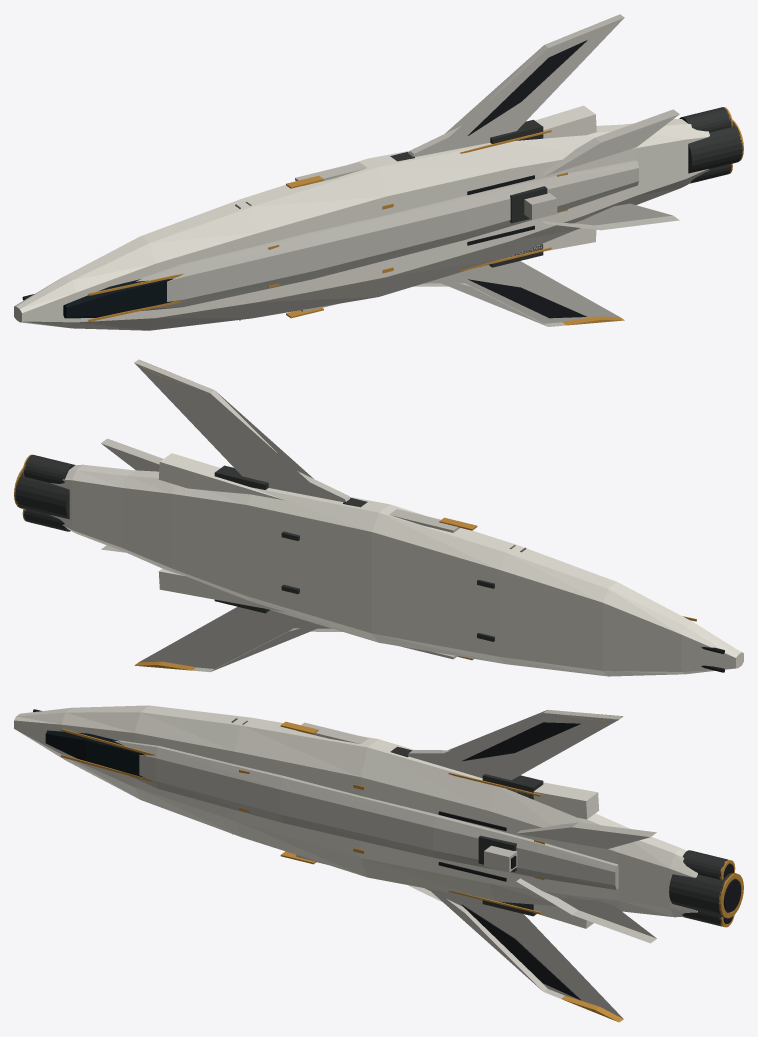
File: model_corvette.glb
3 renders of one model, top to bottom at view 1: azimuth 30°, elevation 25°; view 2: azimuth 150°, elevation 25°; view 3: azimuth 330°, elevation 25°, orthographic.
Visible parts, largest first — view 1: Primary ivory hull, Dorsal armor spine, Swept delta wing_1, Swept delta wing, Dark panoramic cockpit, Rear stabilizer_1, Rear engine housing, Rear stabilizer, Wing graphite inset_1, Side engine nacelle_1, Wing graphite inset, Rear engine housing_2 (+5 smaller); view 2: Primary ivory hull, Swept delta wing_1, Swept delta wing, Side engine nacelle_1, Rear engine housing, Side engine nacelle, Rear engine housing_2, Rear stabilizer_1, Side armor plate_1, Nacelle dark intake_1, Rear engine housing_1; view 3: Primary ivory hull, Dorsal armor spine, Swept delta wing_1, Swept delta wing, Dark panoramic cockpit, Rear stabilizer_1, Rear stabilizer, Rear engine housing, Side engine nacelle_1, Wing graphite inset, Wing graphite inset_1, Rear engine housing_2 (+4 smaller).
Boxes of the visible parts, x1,y1,x2,y2 form: Primary ivory hull: (14, 119, 709, 330); Dorsal armor spine: (133, 160, 638, 310); Swept delta wing_1: (408, 14, 624, 156); Swept delta wing: (414, 261, 619, 326); Dark panoramic cockpit: (63, 278, 174, 318); Rear stabilizer_1: (541, 109, 679, 175); Rear engine housing: (688, 121, 742, 173); Rear stabilizer: (542, 203, 679, 230); Wing graphite inset_1: (468, 40, 587, 135); Side engine nacelle_1: (535, 105, 596, 138); Wing graphite inset: (468, 279, 586, 318); Rear engine housing_2: (679, 107, 731, 132); Primary ivory hull: (50, 464, 743, 676); Swept delta wing_1: (134, 359, 350, 502); Swept delta wing: (139, 606, 342, 672); Side engine nacelle_1: (158, 453, 284, 500); Rear engine housing: (15, 470, 69, 519); Side engine nacelle: (158, 568, 284, 612); Rear engine housing_2: (24, 455, 74, 483); Rear stabilizer_1: (101, 438, 162, 471); Side armor plate_1: (389, 509, 459, 532); Nacelle dark intake_1: (214, 465, 268, 489); Rear engine housing_1: (24, 509, 70, 531); Primary ivory hull: (14, 705, 697, 917); Dorsal armor spine: (114, 739, 618, 889); Swept delta wing_1: (408, 709, 623, 780); Swept delta wing: (408, 885, 623, 1018); Dark panoramic cockpit: (45, 730, 146, 777); Rear stabilizer_1: (516, 822, 656, 849); Rear stabilizer: (516, 878, 656, 943); Rear engine housing: (669, 872, 737, 917); Side engine nacelle_1: (509, 782, 599, 819); Wing graphite inset: (461, 904, 580, 1000); Wing graphite inset_1: (462, 722, 580, 761); Rear engine housing_2: (682, 850, 730, 879).
Bounding box in the file's own units: 28.18 × 11.4 × 2.56.
